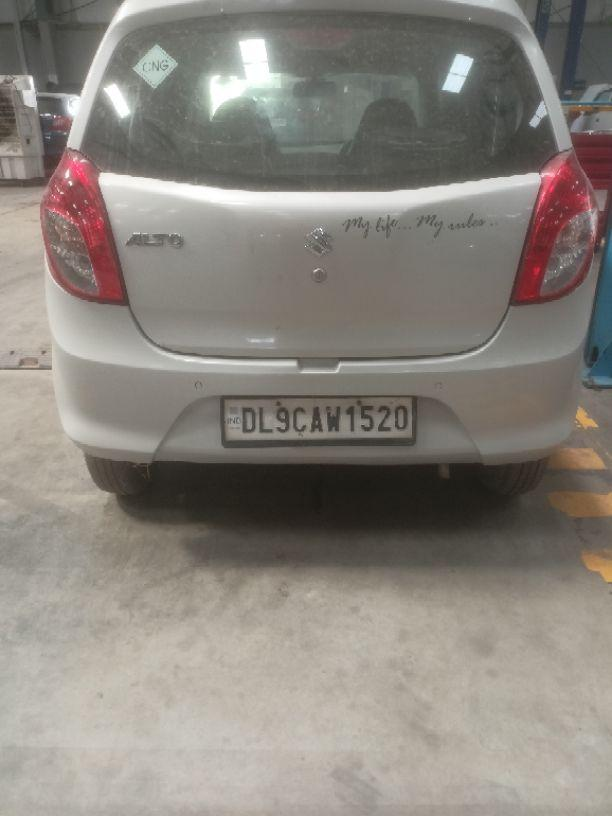license_plate: (219, 393, 417, 446)
